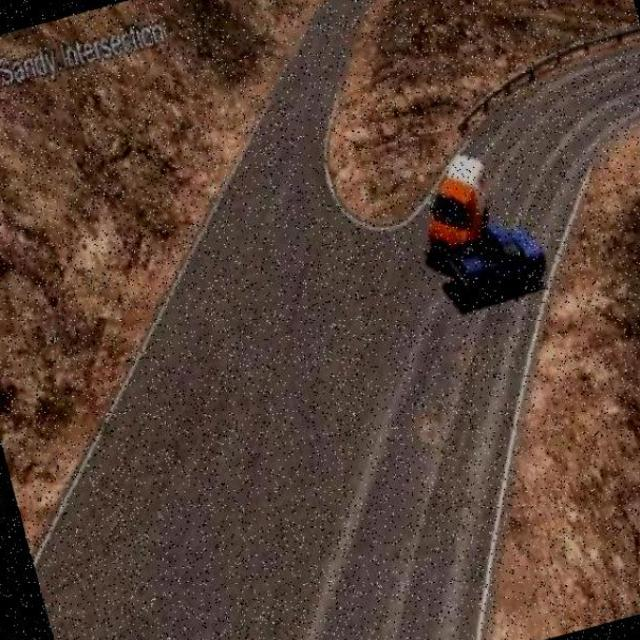accident: (419, 176, 510, 304)
